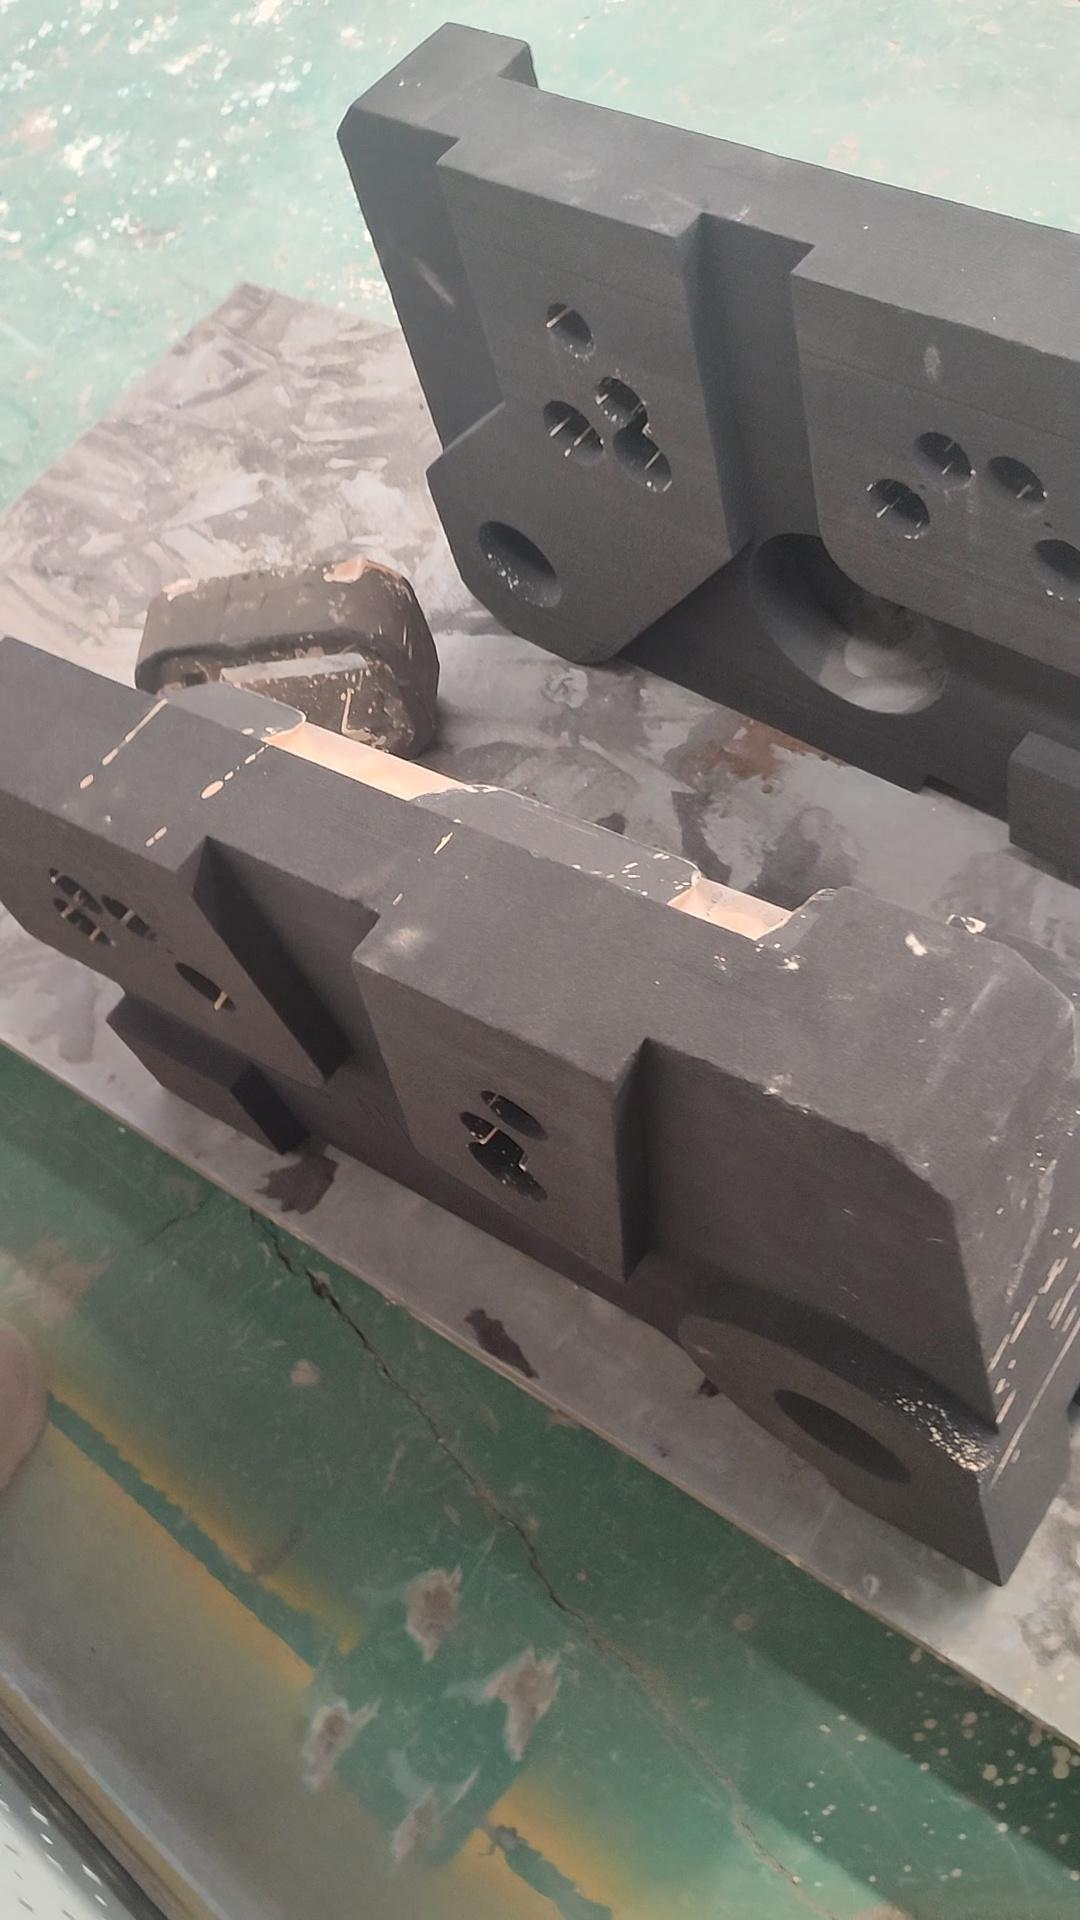pouring hole: (770, 1389, 910, 1484), (477, 521, 560, 607)
